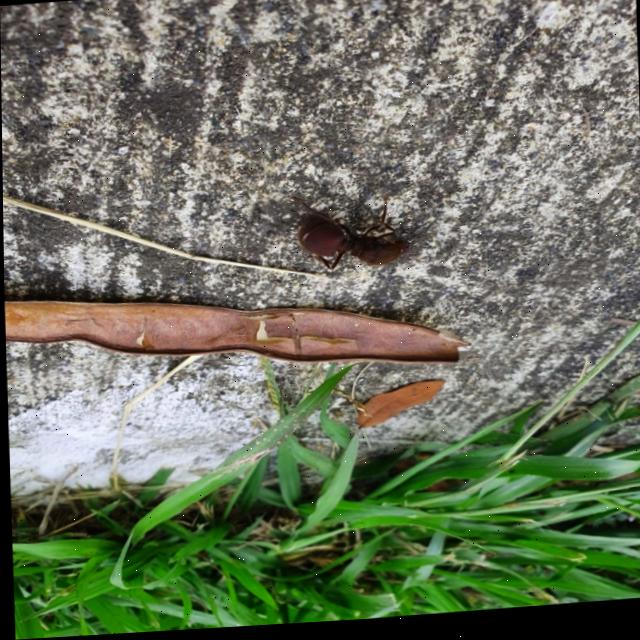Alive-Female-Dealate: (291, 198, 411, 278)
